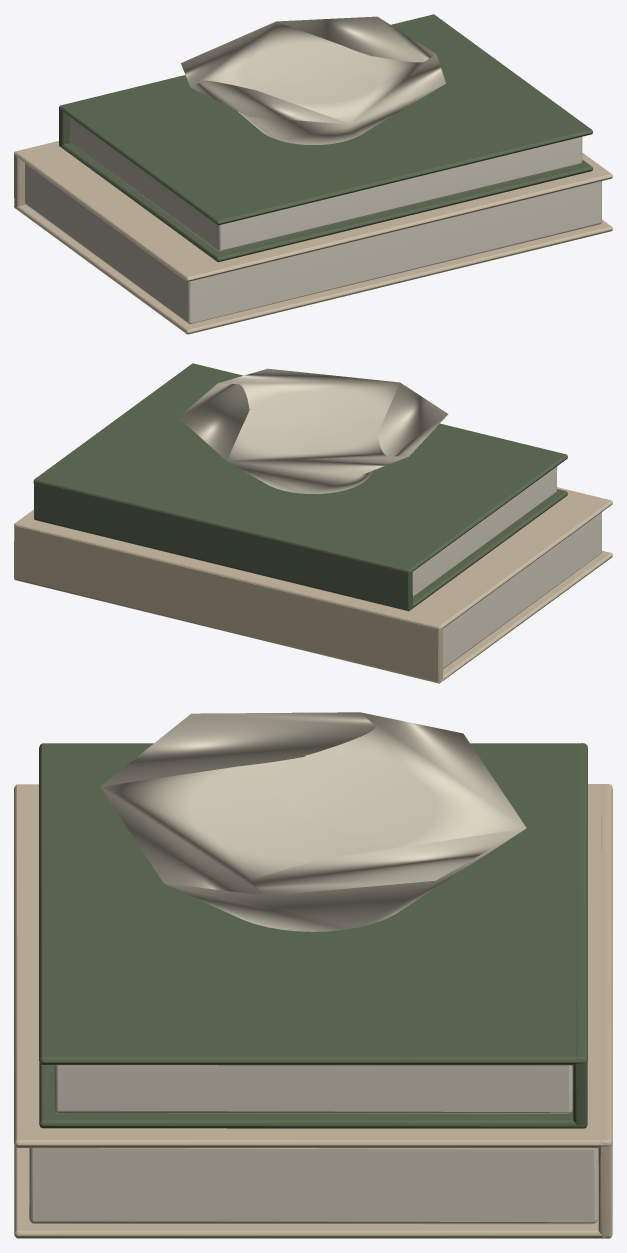
Rendered from bedside-reading-light.glb.
3 renders of one model, top to bottom at view 1: azimuth 30°, elevation 25°; view 2: azimuth 150°, elevation 25°; view 3: azimuth 270°, elevation 25°, orthographic. The views are drawn at different scales.
Parts seen in each view (by area): view 1: Mood book olive, Mood book pages, Mood stoneware chalk, Mood linen oat; view 2: Mood book olive, Mood linen oat, Mood stoneware chalk, Mood book pages; view 3: Mood book olive, Mood book pages, Mood stoneware chalk, Mood linen oat.
Boxes of the visible parts, x1,y1,x2,y2 form: Mood book olive: [59, 14, 592, 262]; Mood book pages: [25, 117, 601, 324]; Mood stoneware chalk: [181, 16, 445, 144]; Mood linen oat: [14, 141, 612, 334]; Mood book olive: [33, 363, 567, 611]; Mood linen oat: [14, 487, 612, 683]; Mood stoneware chalk: [178, 368, 448, 493]; Mood book pages: [412, 466, 601, 668]; Mood book olive: [39, 743, 587, 1128]; Mood book pages: [29, 1065, 597, 1224]; Mood stoneware chalk: [100, 712, 526, 931]; Mood linen oat: [14, 784, 612, 1238].
Size of the model in its own units: 0.17 by 0.0583 by 0.12.
